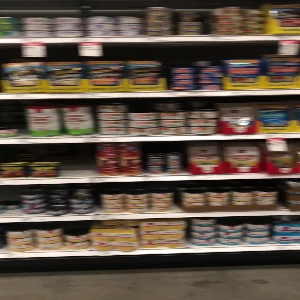void: (58, 142, 93, 178)
